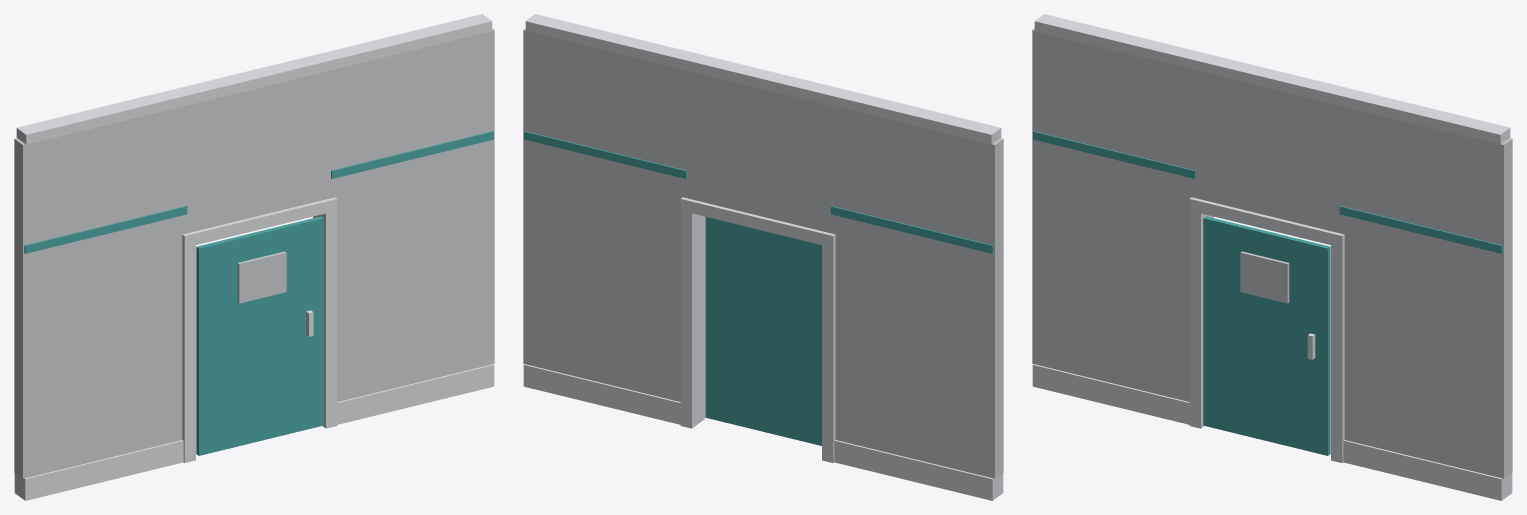
The model's file is chocolate-and-confectionery-factory-factory-wall-door--f0ce5b67__36807.glb.
3 views of the same model, side by side, from view 1: azimuth 30°, elevation 25°; view 2: azimuth 150°, elevation 25°; view 3: azimuth 330°, elevation 25° (orthographic).
Parts seen in each view (by area): view 1: factory-wall-door-panel, door-plant/teal, door-plant/floor; view 2: factory-wall-door-panel, door-plant/teal; view 3: factory-wall-door-panel, door-plant/teal, door-plant/floor.
Boxes of the visible parts, x1,y1,x2,y2 form: factory-wall-door-panel: [14, 14, 494, 500]; door-plant/teal: [196, 216, 323, 455]; door-plant/floor: [237, 251, 286, 303]; factory-wall-door-panel: [523, 14, 1003, 500]; door-plant/teal: [705, 217, 821, 445]; factory-wall-door-panel: [1032, 14, 1512, 500]; door-plant/teal: [1203, 216, 1330, 455]; door-plant/floor: [1240, 251, 1289, 303].
Size of the model in its own units: 5 by 3.7 by 0.2951.
